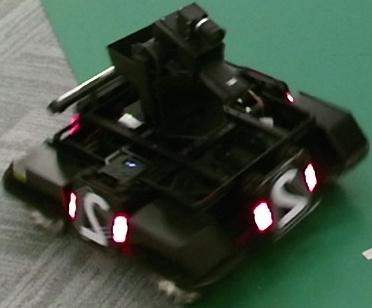armor_2: (255, 165, 318, 231), (69, 194, 128, 242)
